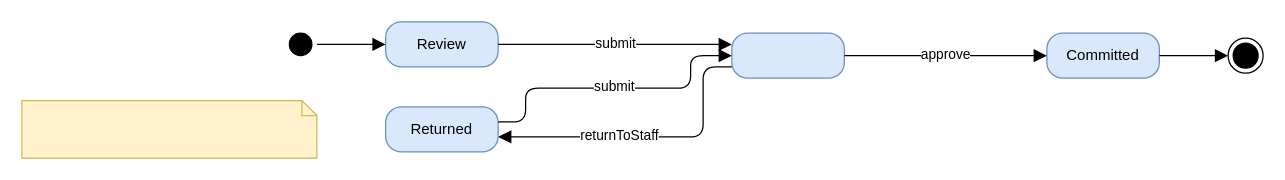
Some shapes in this 1285 by 180 pixel diagram are drawn without their labels. The box of each missing label's shape, as (x1, y1, x2, y2) in pixels:
Allowed by the database, not set by the current code: Approved: (21, 99, 317, 158)
Submitted: (731, 32, 844, 78)
